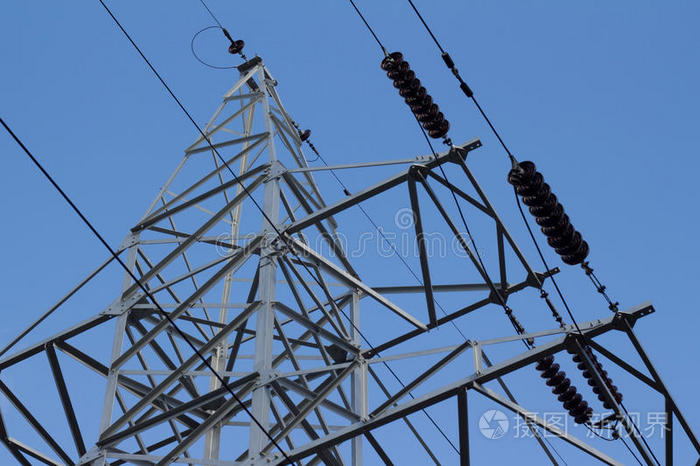insulator: (507, 160, 593, 268), (381, 49, 449, 137), (538, 355, 592, 424), (570, 344, 624, 409)
